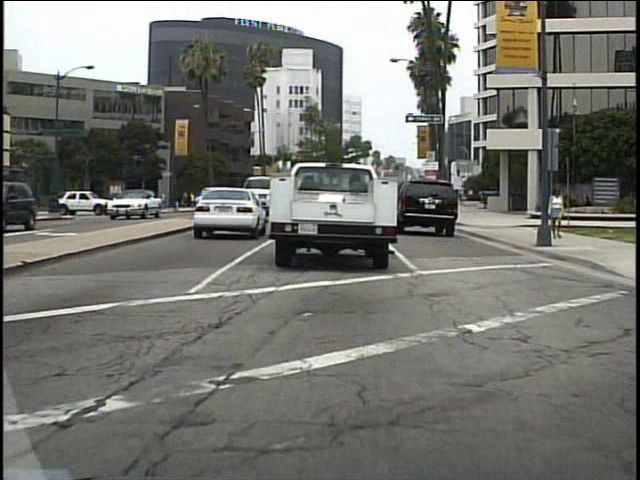person: (548, 180, 569, 245), (119, 182, 134, 216), (121, 190, 122, 217)
